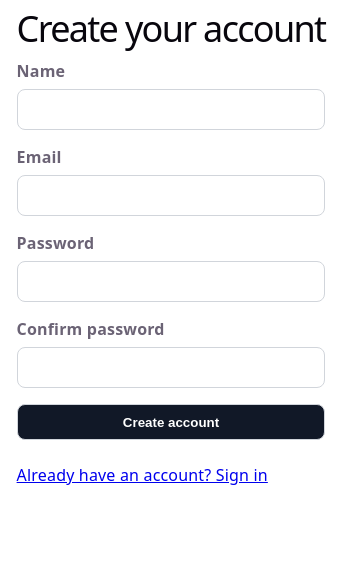
Test: surfaces server-side validation errors per field
The width and height of the screenshot is (344, 586).
Type "Jane" into the field labelled "Name" at [171, 110], box [17,89,325,130]
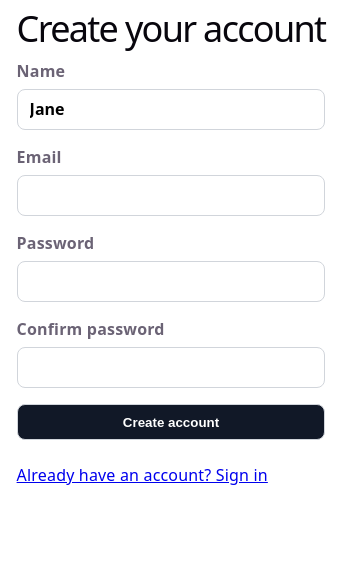
Type "taken@example.com" into the field labelled "Email" at [171, 196], box [17,175,325,216]
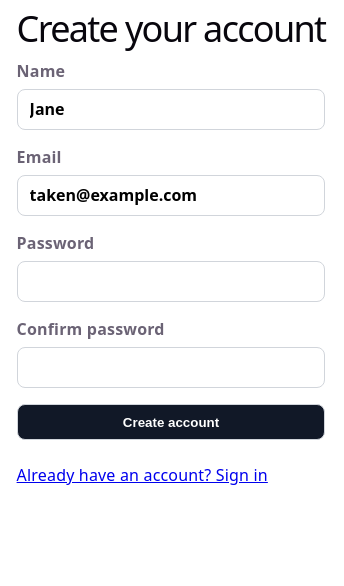
Type "secret-password" into the password field labelled "Password" at [171, 282], box [17,261,325,302]
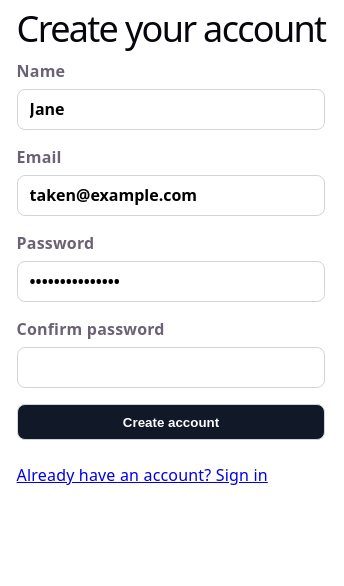
Type "secret-password" into the password field labelled "Confirm password" at [171, 368], box [17,347,325,388]
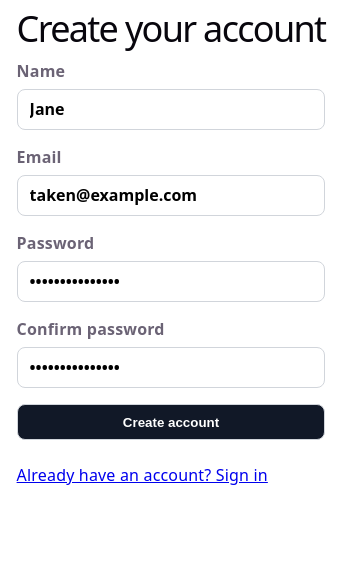
Click the button "Create account" at [171, 422], box [17,404,325,440]
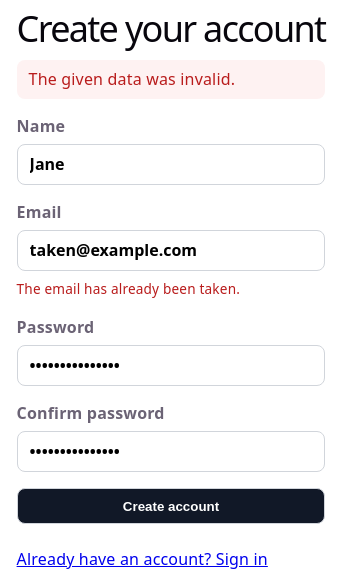
Result: the text "The email has already been taken." is shown at [17,279,240,298]
